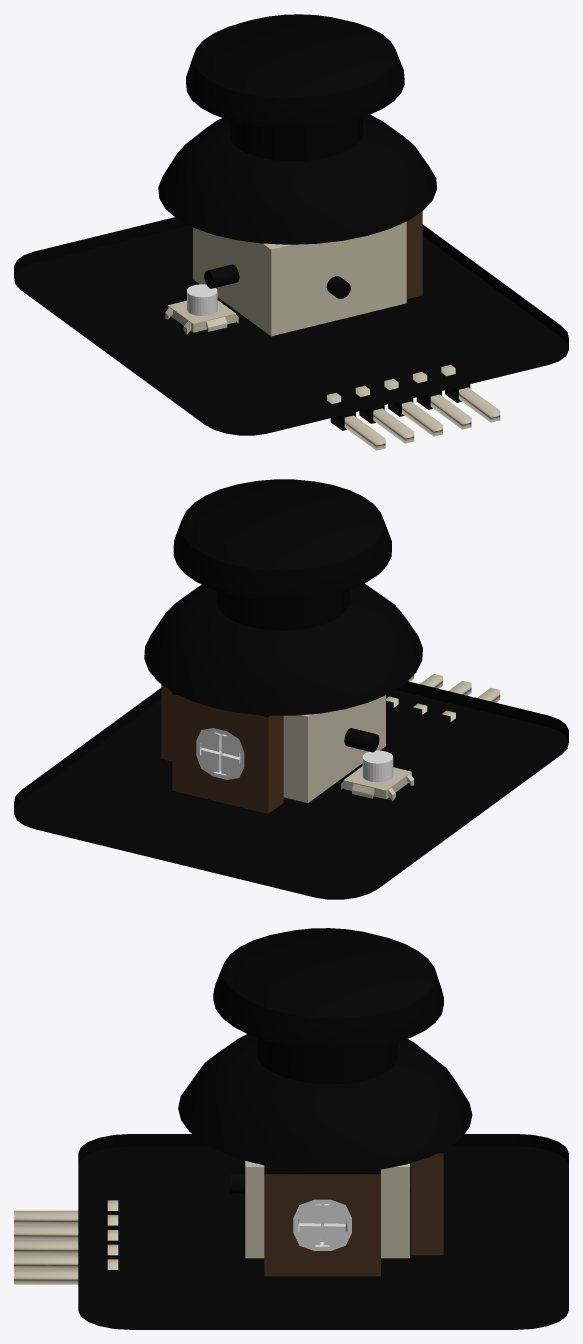
Rendered from joystick.glb.
The picture shows the model from 3 angles, top to bottom: view 1: azimuth 30°, elevation 25°; view 2: azimuth 150°, elevation 25°; view 3: azimuth 270°, elevation 25°; orthographic projection. The views are drawn at different scales.
Visible parts, largest first — view 1: Cube.003_pcbBlack_0, Cube.003_Metallic_0, Cube.003_BlackPlastic_0, Cube.003_DarkBrownEpox_0, Cube.003_WhitePlastic_0; view 2: Cube.003_pcbBlack_0, Cube.003_DarkBrownEpox_0, Cube.003_Metallic_0, Cube.003_WhitePlastic_0, Cube.003_BlackPlastic_0; view 3: Cube.003_pcbBlack_0, Cube.003_DarkBrownEpox_0, Cube.003_Metallic_0, Cube.003_WhitePlastic_0, Cube.003_BlackPlastic_0.
Boxes of the visible parts, x1,y1,x2,y2 form: Cube.003_pcbBlack_0: (14,14,568,435); Cube.003_Metallic_0: (165,221,500,450); Cube.003_BlackPlastic_0: (204,264,470,430); Cube.003_DarkBrownEpox_0: (406,211,422,299); Cube.003_WhitePlastic_0: (187,284,217,315); Cube.003_pcbBlack_0: (14,479,568,899); Cube.003_DarkBrownEpox_0: (161,684,283,813); Cube.003_Metallic_0: (283,674,500,802); Cube.003_WhitePlastic_0: (196,728,393,782); Cube.003_BlackPlastic_0: (172,692,450,752); Cube.003_pcbBlack_0: (78,928,568,1329); Cube.003_DarkBrownEpox_0: (264,1153,443,1276); Cube.003_Metallic_0: (14,1161,409,1284); Cube.003_WhitePlastic_0: (293,1199,351,1250); Cube.003_BlackPlastic_0: (230,1150,443,1193).
Bounding box in the file's own units: 0.0296 × 0.0223 × 0.0378.
